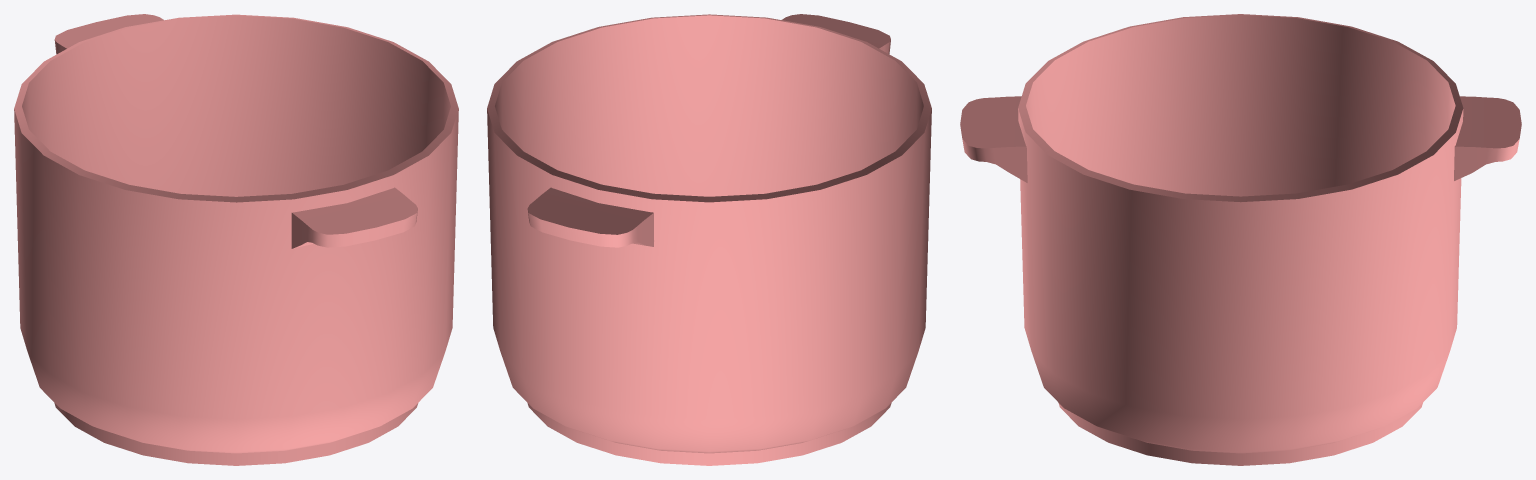
File: TFYK_saucepan_high_poly.FBX
3 renders of one model, left to right at view 1: azimuth 30°, elevation 25°; view 2: azimuth 150°, elevation 25°; view 3: azimuth 270°, elevation 25°, orthographic.
Parts seen in each view (by area): view 1: TFYK_saucepan_high_poly; view 2: TFYK_saucepan_high_poly; view 3: TFYK_saucepan_high_poly.
Part boxes in pixels (x1,y1,x2,y2): TFYK_saucepan_high_poly: (14, 14, 458, 465); TFYK_saucepan_high_poly: (487, 14, 931, 465); TFYK_saucepan_high_poly: (960, 14, 1521, 465).
Bounding box in the file's own units: 0.1898 × 0.1322 × 0.2394.
